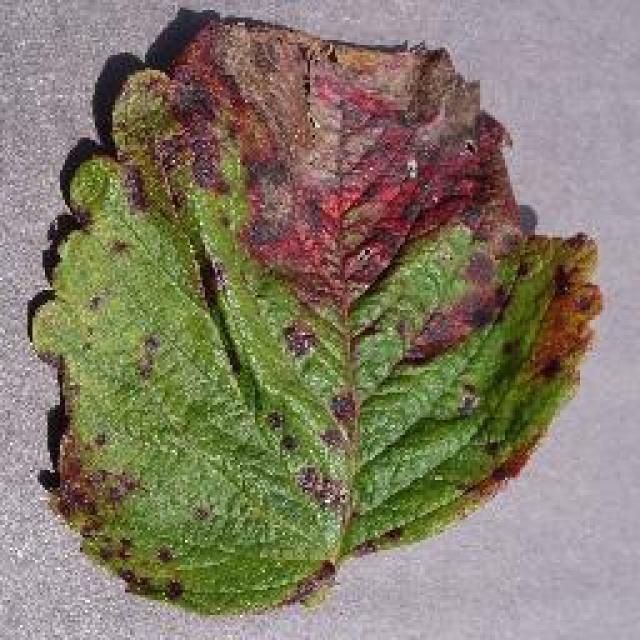Strawberry leaf scorch: (116, 11, 542, 452)
